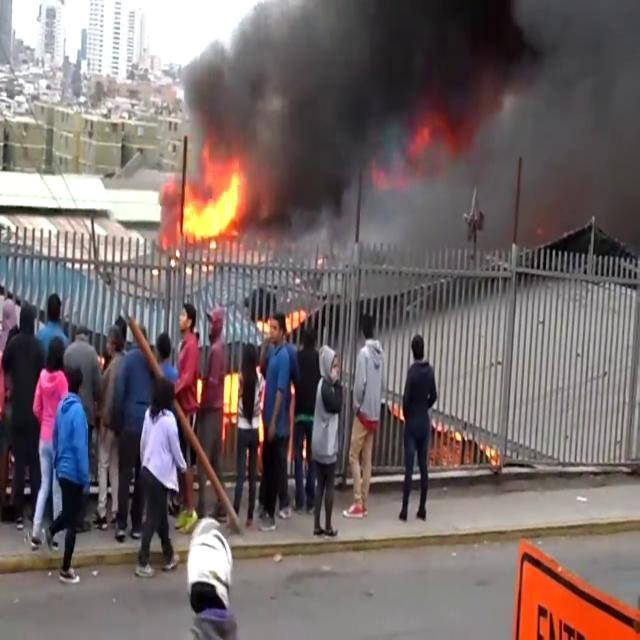Fire: (172, 156, 250, 258)
Smoke: (180, 0, 640, 224)
